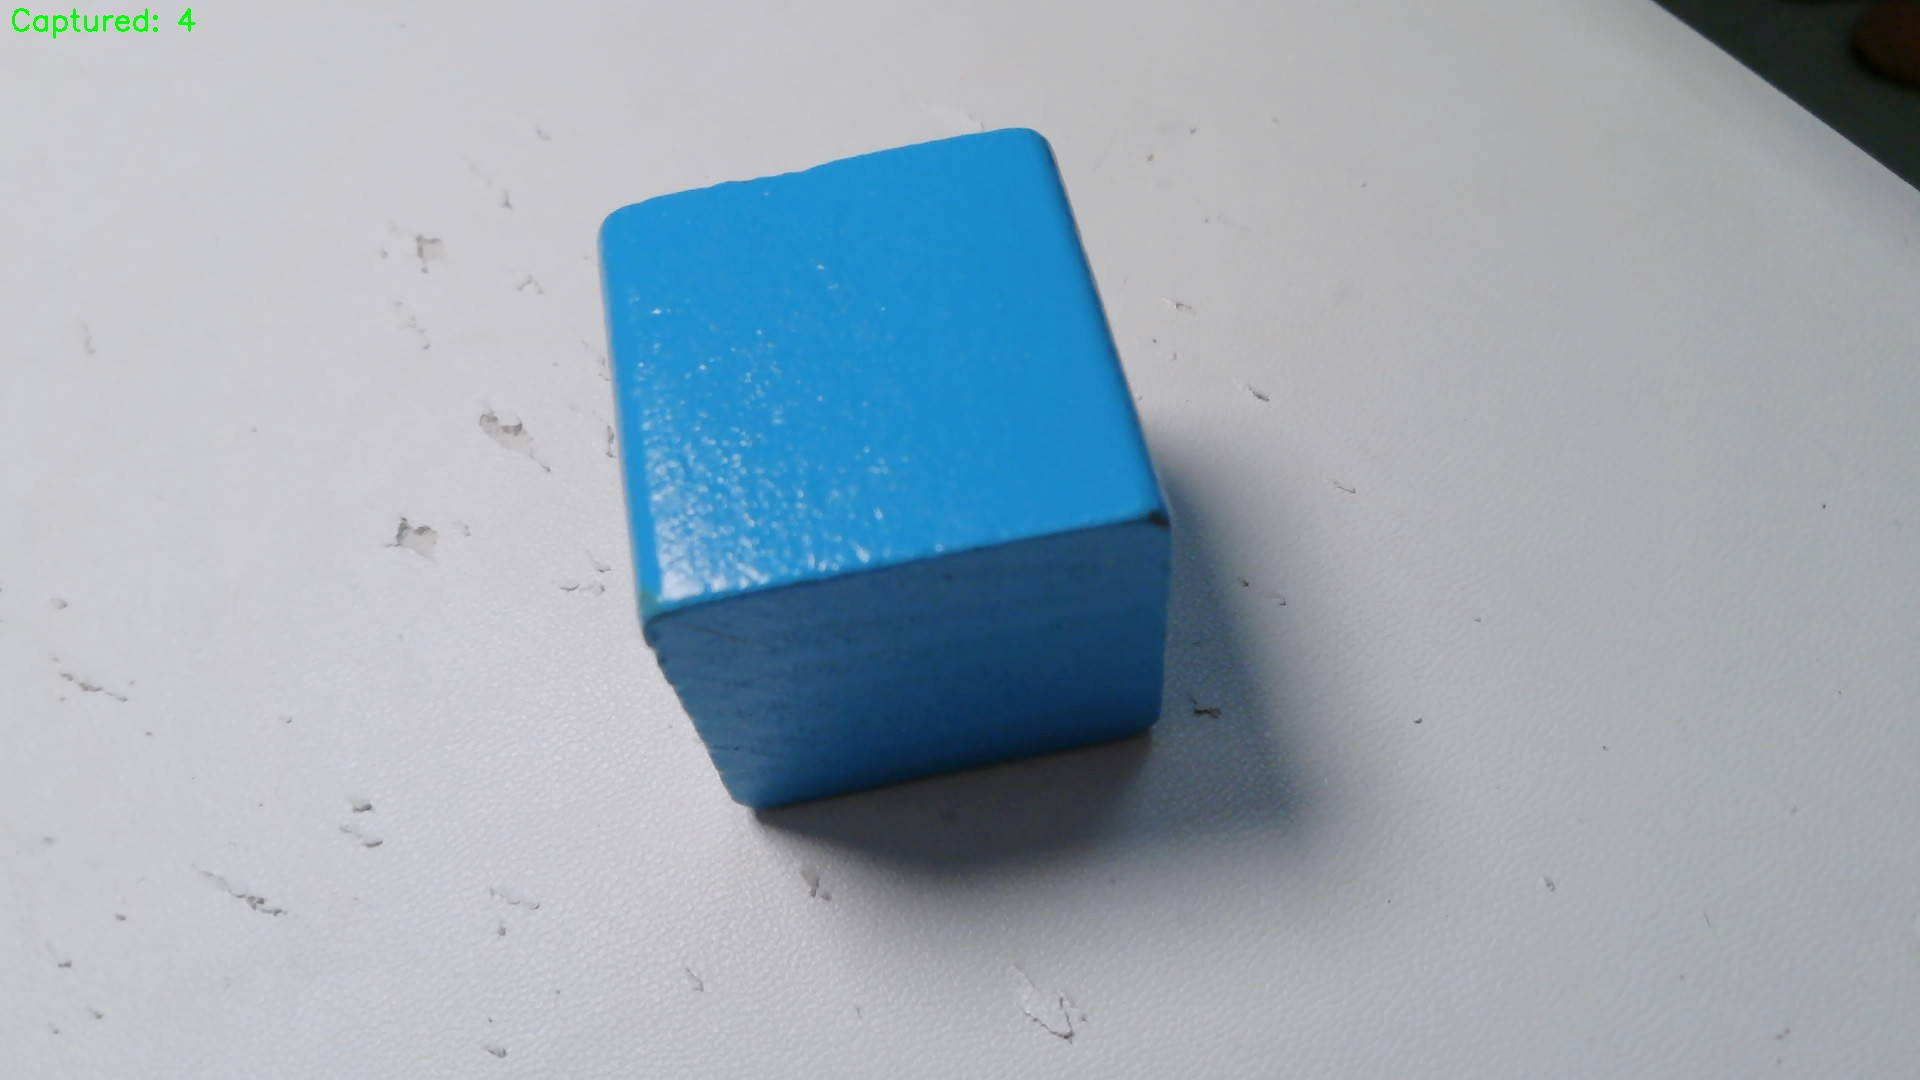blue: (615, 127, 1178, 822)
